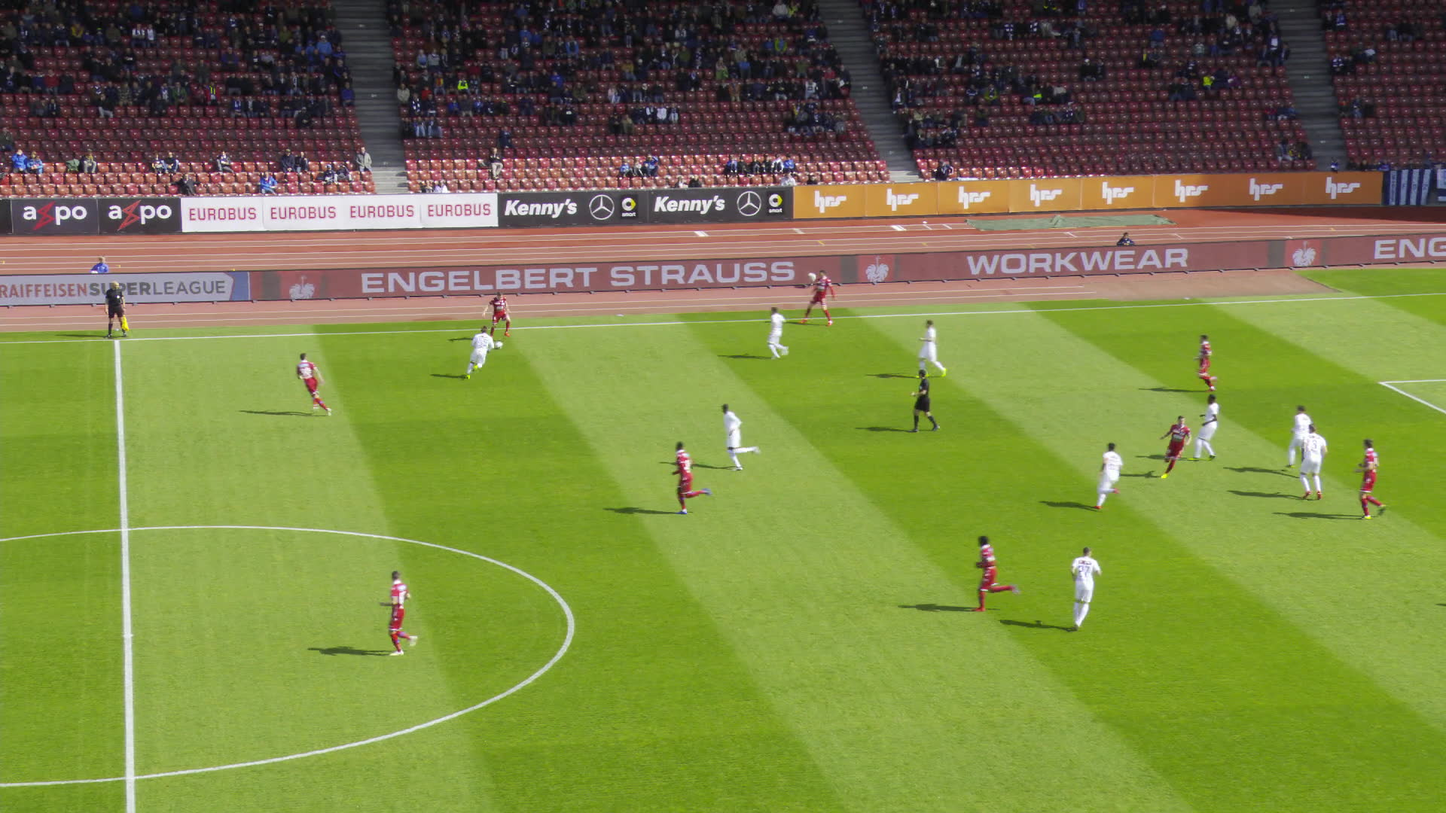ball: (490, 342, 503, 352)
player: (977, 533, 1025, 611), (670, 438, 719, 514), (383, 568, 425, 656), (1057, 548, 1100, 631), (724, 401, 767, 472), (1357, 437, 1393, 520), (298, 353, 337, 415), (1096, 440, 1130, 511), (1191, 394, 1225, 462), (1300, 425, 1329, 500), (1163, 412, 1194, 481), (805, 267, 839, 327), (1293, 407, 1319, 485), (1197, 333, 1231, 391), (920, 318, 951, 379), (463, 327, 496, 379), (769, 306, 798, 362), (483, 291, 513, 340)
referee: (108, 280, 136, 340), (913, 367, 938, 432)
